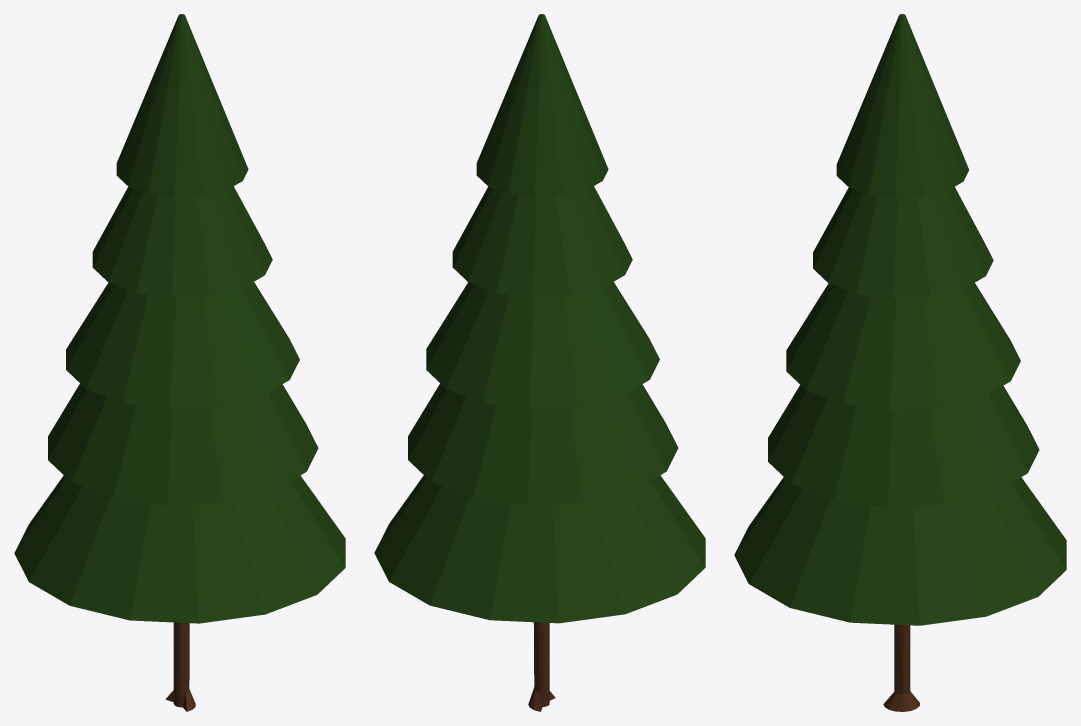
File: Tree_3.fbx
3 renders of one model, left to right at view 1: azimuth 30°, elevation 25°; view 2: azimuth 150°, elevation 25°; view 3: azimuth 270°, elevation 25°, orthographic.
Parts seen in each view (by area): view 1: Cylinder; view 2: Cylinder; view 3: Cylinder.
Part boxes in pixels (bbox=[...]): Cylinder: bbox=[14, 14, 345, 711]; Cylinder: bbox=[374, 14, 705, 711]; Cylinder: bbox=[734, 14, 1066, 711].
Bounding box in the file's own units: 13.7 × 31.23 × 13.62.
